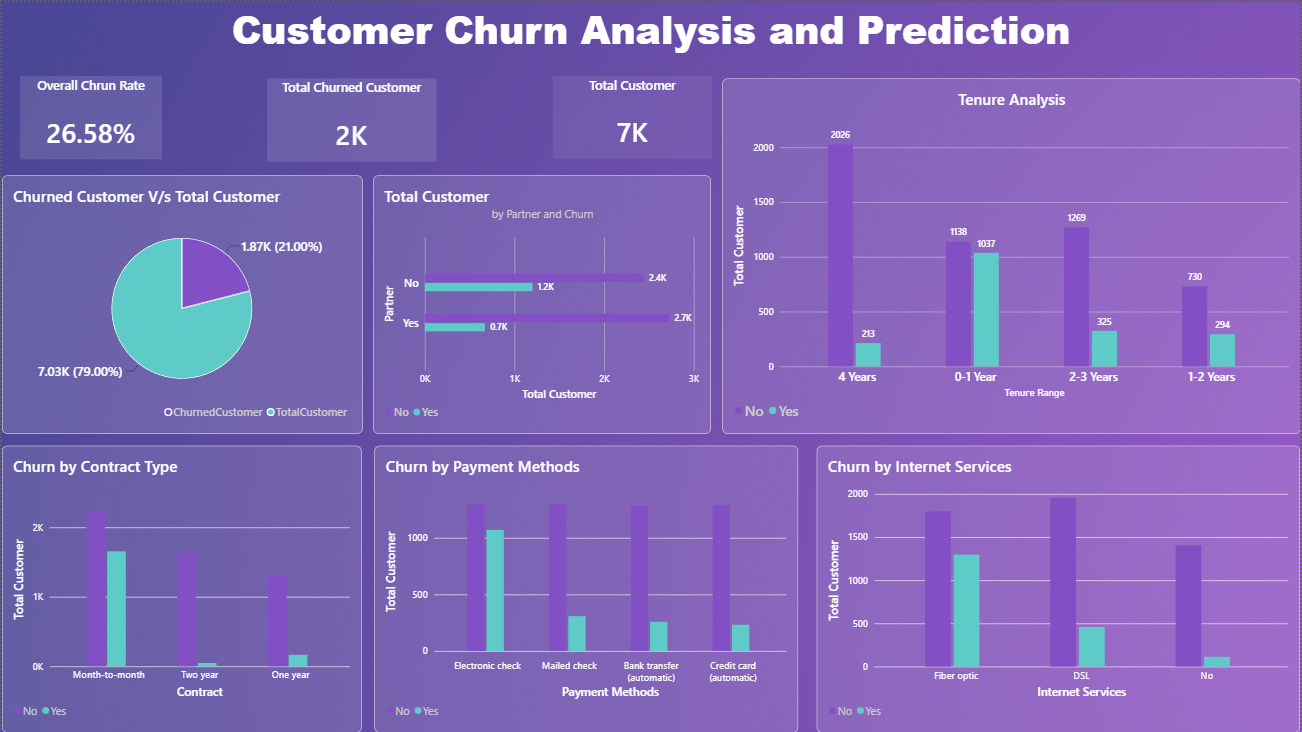

This screenshot's page, from the dashboard's own definition file:
{"tool":"powerbi","page":{"name":"Page 1","canvas":[1920,1080],"ordinal":0},"visuals":[{"type":"textbox","box":[233.4,0,1451.4,87.1],"z":0},{"type":"cardVisual","title":"Overall Chrun Rate","fields":{"Data":["Telco_Customer_Churn_Dataset  (2).ChrunedRate"]},"box":[25.7,108.4,210.4,123.3],"z":1000},{"type":"pieChart","title":"Churned Customer V/s Total Customer","fields":{"Y":["Telco_Customer_Churn_Dataset  (2).ChurnedCustomer","Telco_Customer_Churn_Dataset  (2).TotalCustomer"]},"box":[0,257.3,532.9,382.2],"z":2000},{"type":"clusteredBarChart","title":"Total Customer","fields":{"Y":["Telco_Customer_Churn_Dataset  (2).TotalCustomer"],"Category":["Telco_Customer_Churn_Dataset  (2).Partner"],"Series":["Telco_Customer_Churn_Dataset  (2).Churn"]},"box":[549.5,257.3,499.9,382.2],"z":4000},{"type":"cardVisual","title":"Total Churned Customer","fields":{"Data":["Telco_Customer_Churn_Dataset  (2).ChurnedCustomer"]},"box":[391.4,113.9,249.9,123.1],"z":5000},{"type":"cardVisual","title":"Total Customer","fields":{"Data":["Telco_Customer_Churn_Dataset  (2).TotalCustomer"]},"box":[814.1,110.3,235.6,122.5],"z":6000},{"type":"clusteredColumnChart","title":"Tenure Analysis","fields":{"Category":["Telco_Customer_Churn_Dataset  (2).Tenure Range"],"Y":["Telco_Customer_Churn_Dataset  (2).TotalCustomer"],"Series":["Telco_Customer_Churn_Dataset  (2).Churn"]},"box":[1065.9,113.9,854.5,525.6],"z":7000},{"type":"clusteredColumnChart","title":"Churn by Contract Type","fields":{"Y":["Telco_Customer_Churn_Dataset  (2).TotalCustomer"],"Series":["Telco_Customer_Churn_Dataset  (2).Churn"],"Category":["Telco_Customer_Churn_Dataset  (2).Contract"]},"box":[0,656.1,531.1,413.5],"z":8000},{"type":"clusteredColumnChart","title":"Churn by Internet Services ","fields":{"Y":["Telco_Customer_Churn_Dataset  (2).TotalCustomer"],"Series":["Telco_Customer_Churn_Dataset  (2).Churn"],"Category":["Telco_Customer_Churn_Dataset  (2).InternetService"]},"box":[1205.1,655.5,714.9,424.5],"z":9000},{"type":"clusteredColumnChart","title":"Churn by Payment Methods","fields":{"Series":["Telco_Customer_Churn_Dataset  (2).Churn"],"Category":["Telco_Customer_Churn_Dataset  (2).PaymentMethod"],"Y":["Telco_Customer_Churn_Dataset  (2).TotalCustomer"]},"box":[551.3,656.1,626.7,424.5],"z":10000}]}

Visuals, with their boxes in screenshot pixels (x1, y1, x2, y2), scaled from the page's 1920x1080 canvas onto the 1302x732 screenshot:
textbox: [158,0,1143,59]
"Overall Chrun Rate" cardVisual: [17,73,160,157]
"Churned Customer V/s Total Customer" pieChart: [0,174,361,433]
"Total Customer" clusteredBarChart: [373,174,712,433]
"Total Churned Customer" cardVisual: [265,77,435,161]
"Total Customer" cardVisual: [552,75,712,158]
"Tenure Analysis" clusteredColumnChart: [723,77,1301,433]
"Churn by Contract Type" clusteredColumnChart: [0,445,360,725]
"Churn by Internet Services " clusteredColumnChart: [817,444,1301,731]
"Churn by Payment Methods" clusteredColumnChart: [374,445,799,731]
